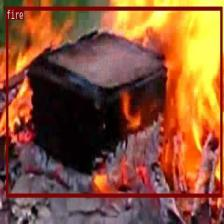fire: (6, 7, 222, 196)
